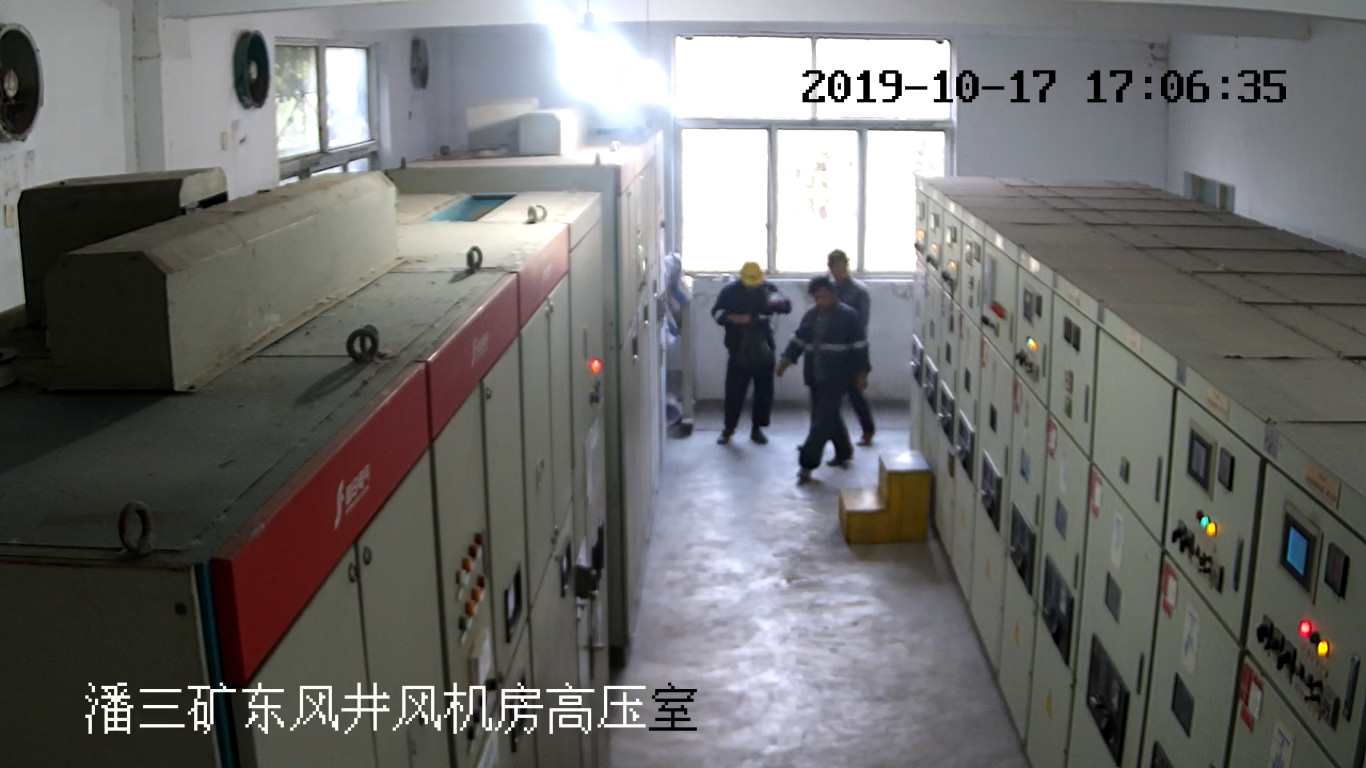helmet: (739, 261, 764, 287)
